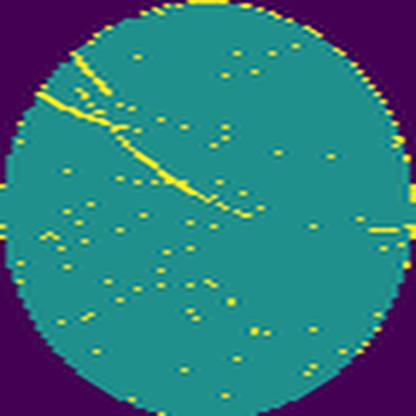Scratch: (31, 46, 266, 233)
